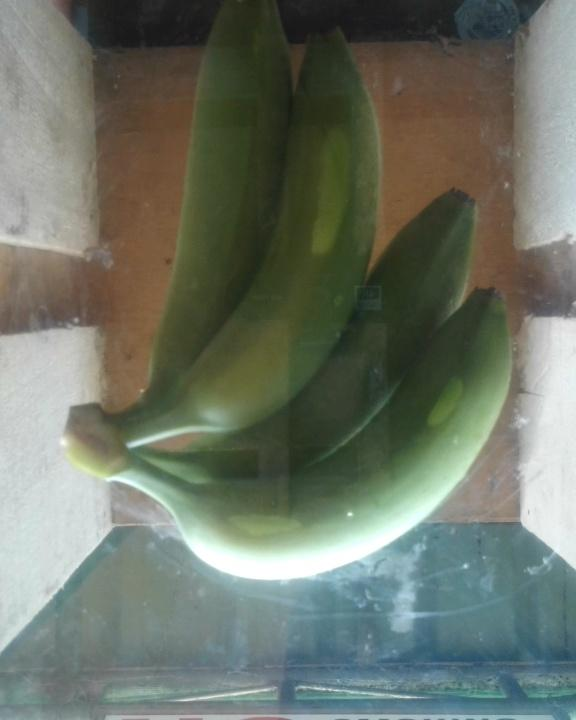SPOT: (102, 2, 528, 596)
